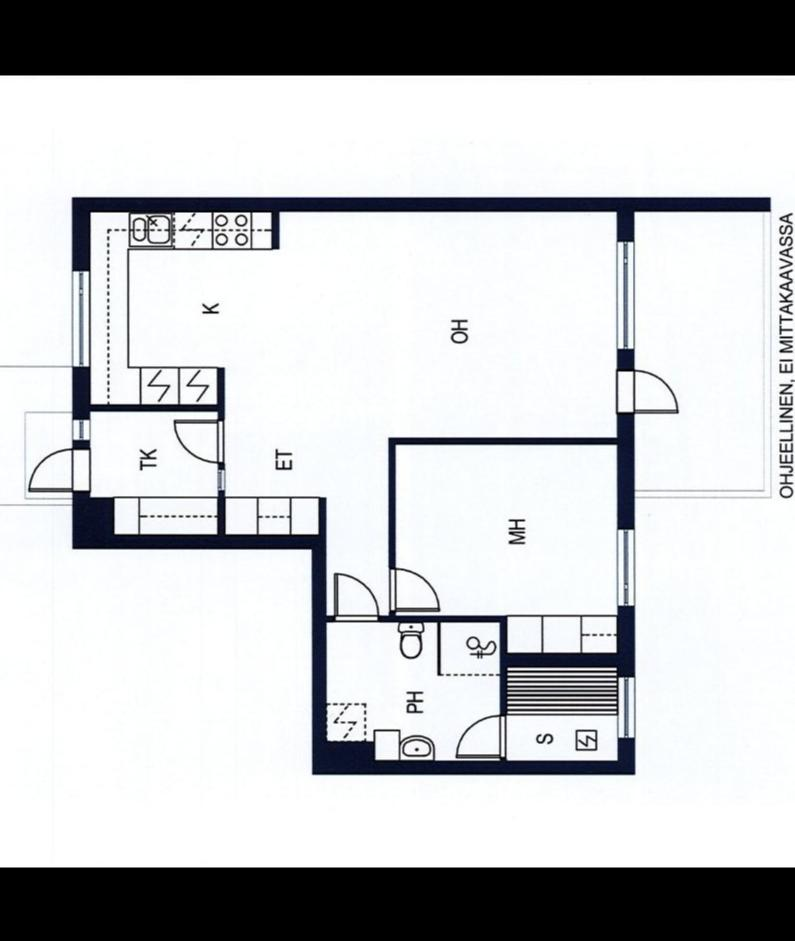bathroom: (332, 620, 502, 756)
door: (21, 444, 100, 501), (612, 366, 682, 420), (168, 410, 230, 469), (385, 562, 444, 617), (448, 710, 508, 764), (332, 564, 380, 631)
perimeter: (70, 193, 638, 775)
window: (609, 226, 644, 358), (62, 260, 98, 372), (612, 664, 642, 746), (617, 519, 639, 617), (66, 412, 93, 450)
